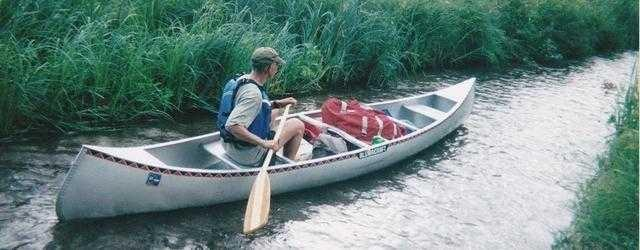kayak: (56, 76, 474, 224)
